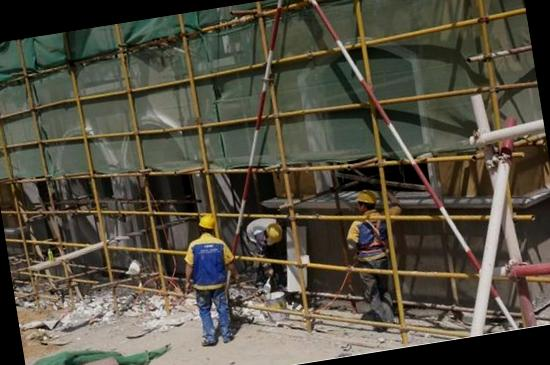helmet: (352, 186, 380, 217), (195, 210, 221, 235)
no_vest: (181, 230, 235, 296)
person: (174, 206, 247, 350), (338, 186, 407, 334), (243, 215, 286, 264)
